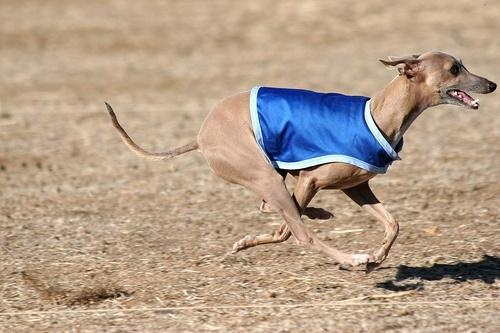dog: (105, 50, 499, 274)
